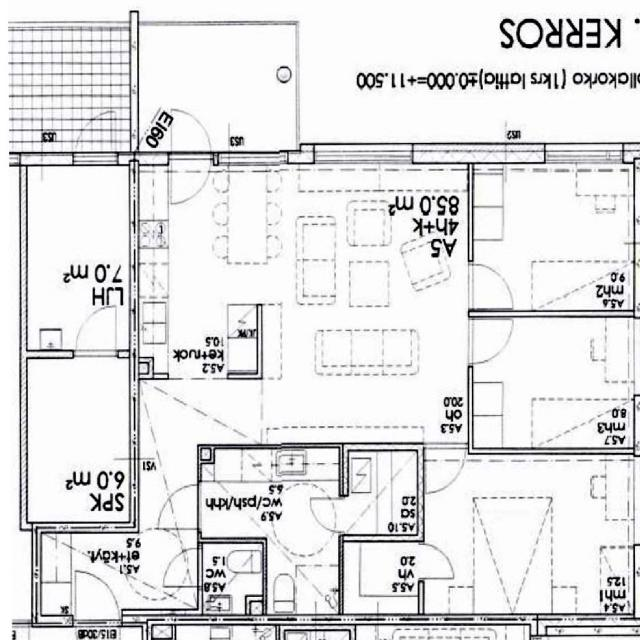door: (75, 570, 120, 626), (171, 107, 211, 164), (171, 152, 211, 208), (426, 444, 466, 496), (158, 484, 202, 530), (468, 264, 513, 308), (468, 319, 513, 363), (163, 548, 203, 586), (418, 543, 454, 578), (310, 498, 344, 530), (75, 619, 120, 640)
